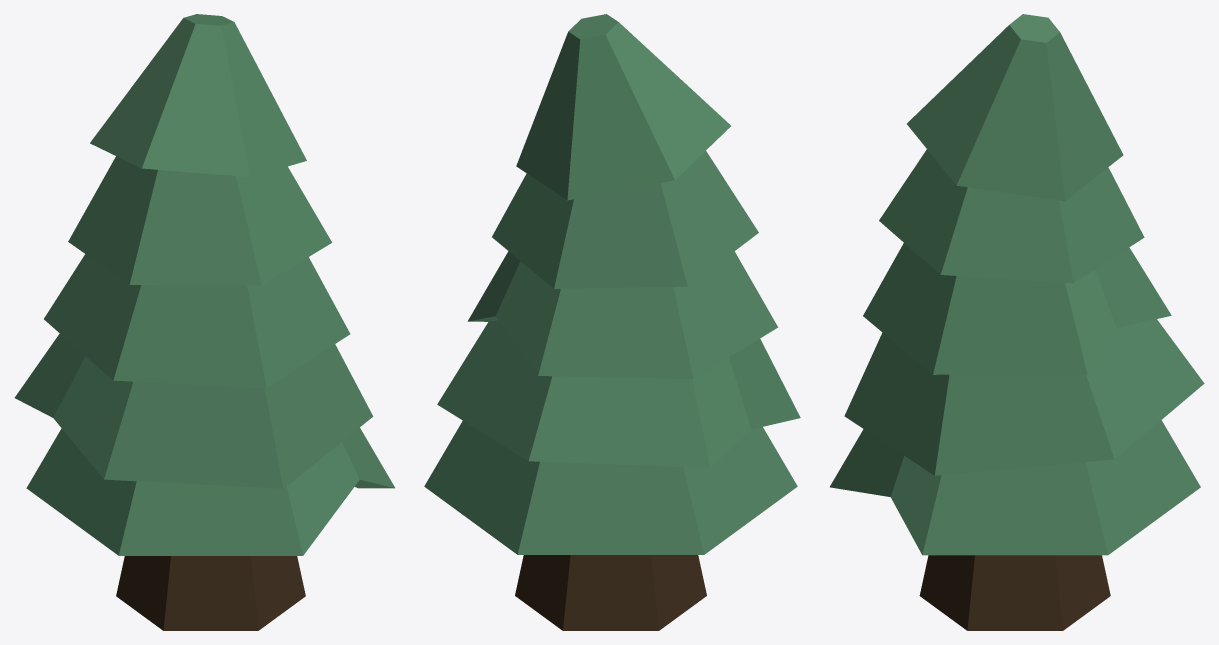
The model's file is Tree.glb.
3 renders of one model, left to right at view 1: azimuth 30°, elevation 25°; view 2: azimuth 150°, elevation 25°; view 3: azimuth 270°, elevation 25°, orthographic.
Parts seen in each view (by area): view 1: Cylinder.002, Cylinder.003, Cylinder.004, Cylinder.001, Cylinder.005, Cylinder-col; view 2: Cylinder.001, Cylinder.002, Cylinder.003, Cylinder.005, Cylinder.004, Cylinder-col; view 3: Cylinder.002, Cylinder.001, Cylinder.003, Cylinder.005, Cylinder.004, Cylinder-col.
Part boxes in pixels (left/top/right/bottom): Cylinder.002: left=14, top=333, right=373, bottom=488; Cylinder.003: left=44, top=254, right=350, bottom=387; Cylinder.004: left=68, top=156, right=331, bottom=285; Cylinder.001: left=26, top=427, right=394, bottom=555; Cylinder.005: left=90, top=14, right=306, bottom=177; Cylinder-col: left=116, top=556, right=305, bottom=630; Cylinder.001: left=424, top=421, right=797, bottom=554; Cylinder.002: left=437, top=320, right=800, bottom=467; Cylinder.003: left=467, top=251, right=778, bottom=378; Cylinder.005: left=516, top=14, right=730, bottom=200; Cylinder.004: left=492, top=151, right=758, bottom=288; Cylinder-col: left=515, top=555, right=706, bottom=630; Cylinder.002: left=844, top=319, right=1204, bottom=475; Cylinder.001: left=830, top=420, right=1200, bottom=555; Cylinder.003: left=863, top=243, right=1171, bottom=374; Cylinder.005: left=907, top=14, right=1123, bottom=201; Cylinder.004: left=879, top=149, right=1144, bottom=283; Cylinder-col: left=919, top=555, right=1110, bottom=630.
Bounding box in the file's own units: 3.49 × 6.65 × 3.92.
